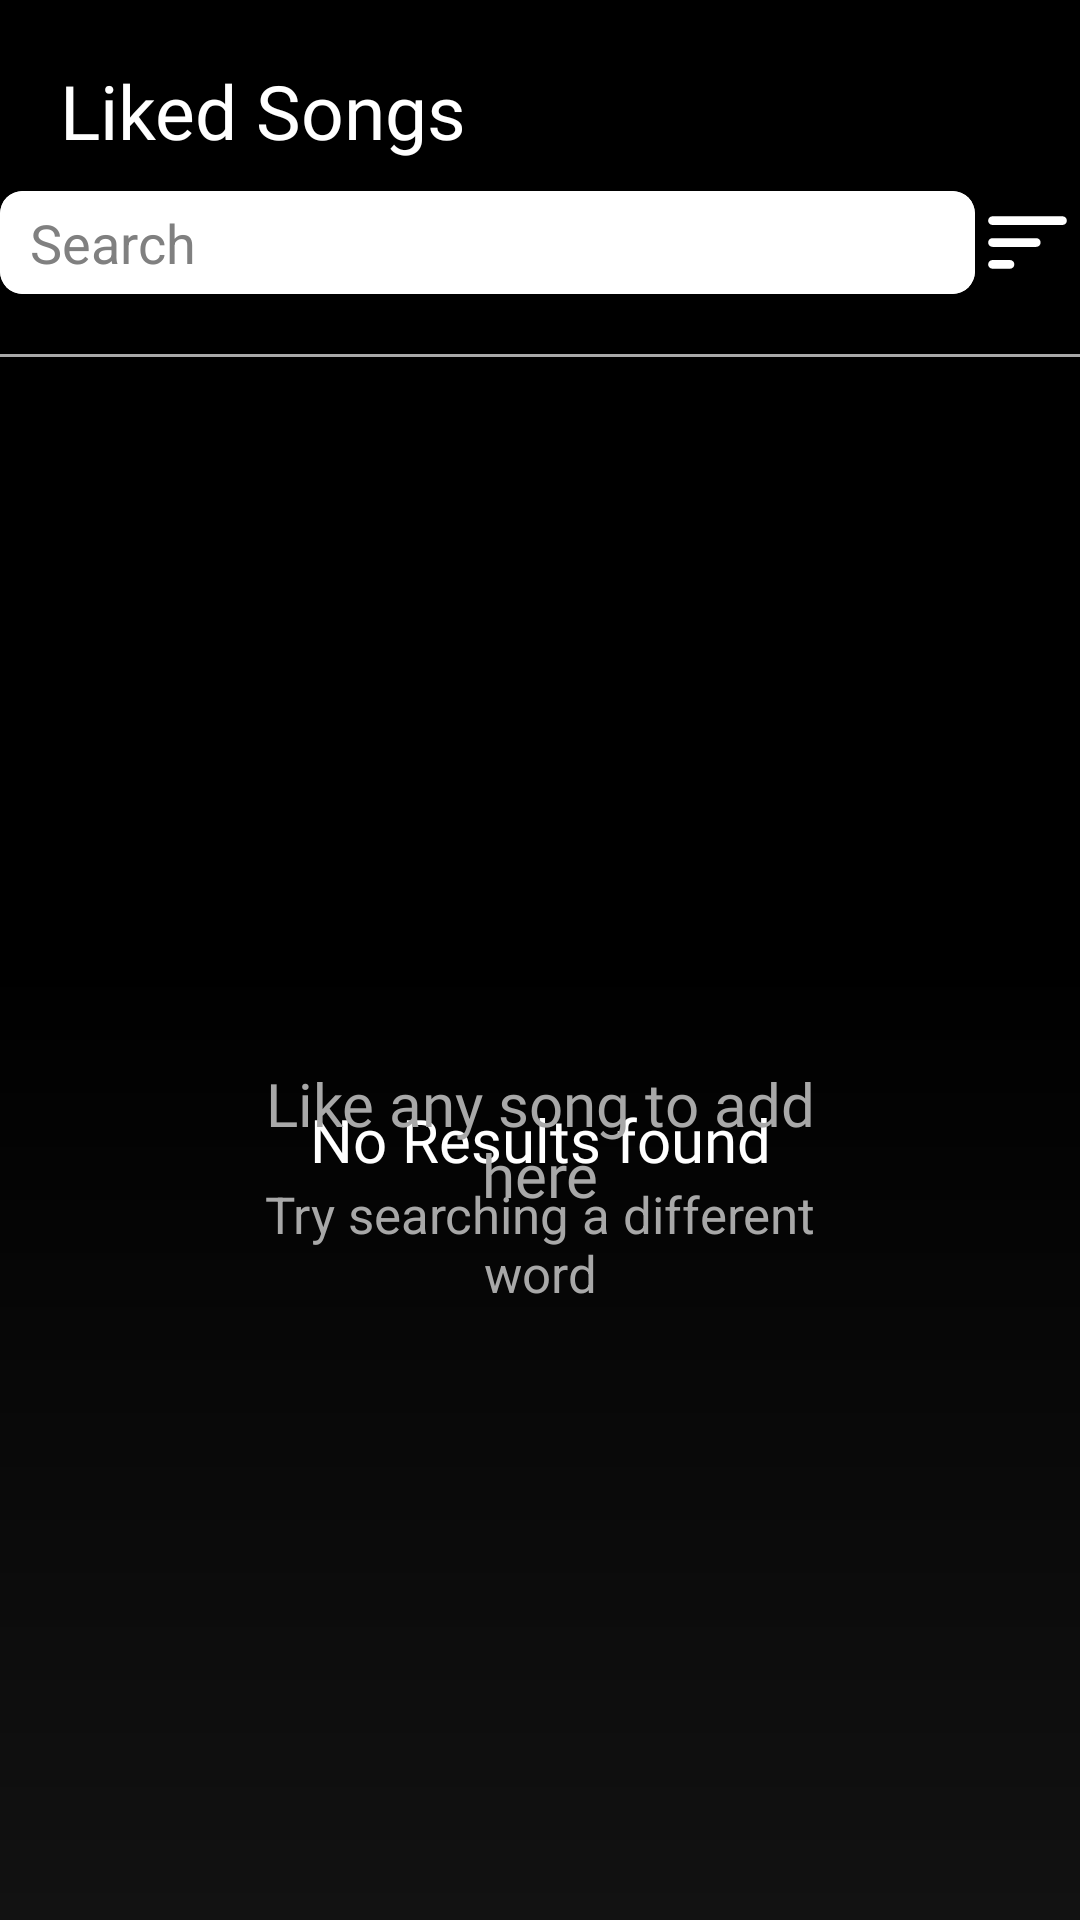

Where to tap for icons on this 1080×1920 app screen, as (x=x, y=y):
sort: (x=1027, y=242)
